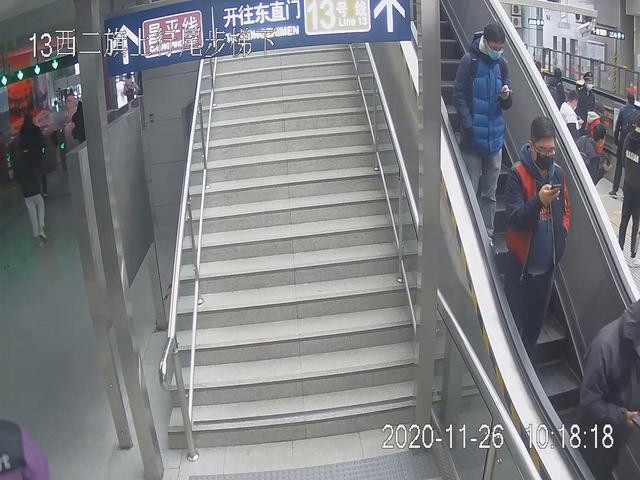person: (501, 116, 571, 380), (451, 20, 512, 257)
